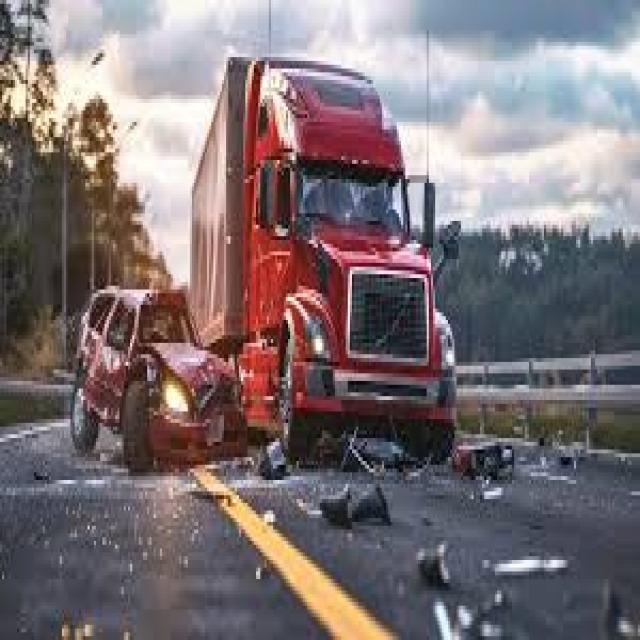Accident: (71, 54, 458, 476)
